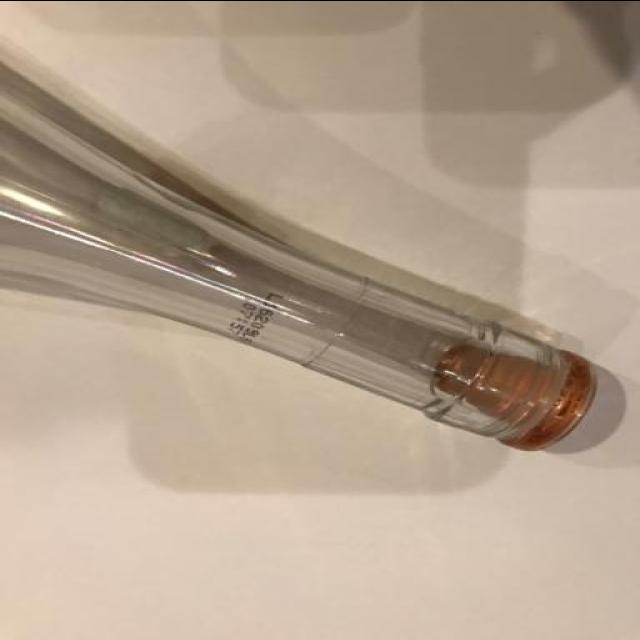litter: (0, 62, 600, 454)
